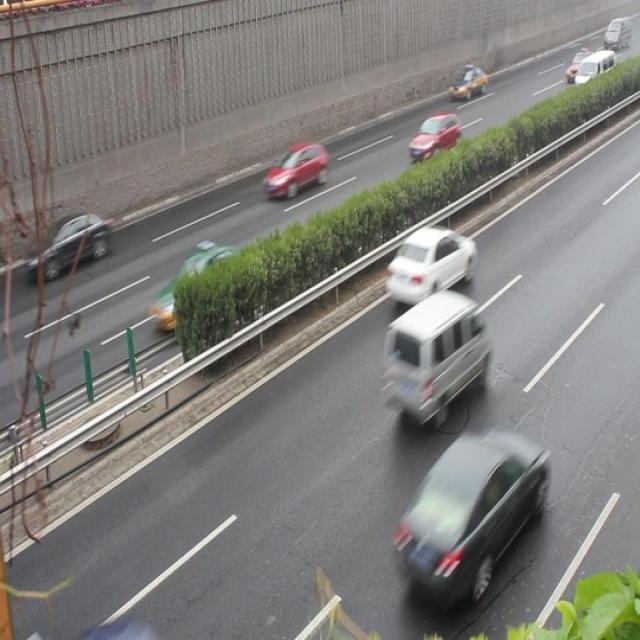car: (396, 422, 543, 597), (149, 243, 262, 321), (385, 222, 475, 298), (27, 210, 110, 282), (21, 603, 163, 639), (261, 141, 326, 197), (407, 109, 459, 156), (446, 64, 486, 101)
